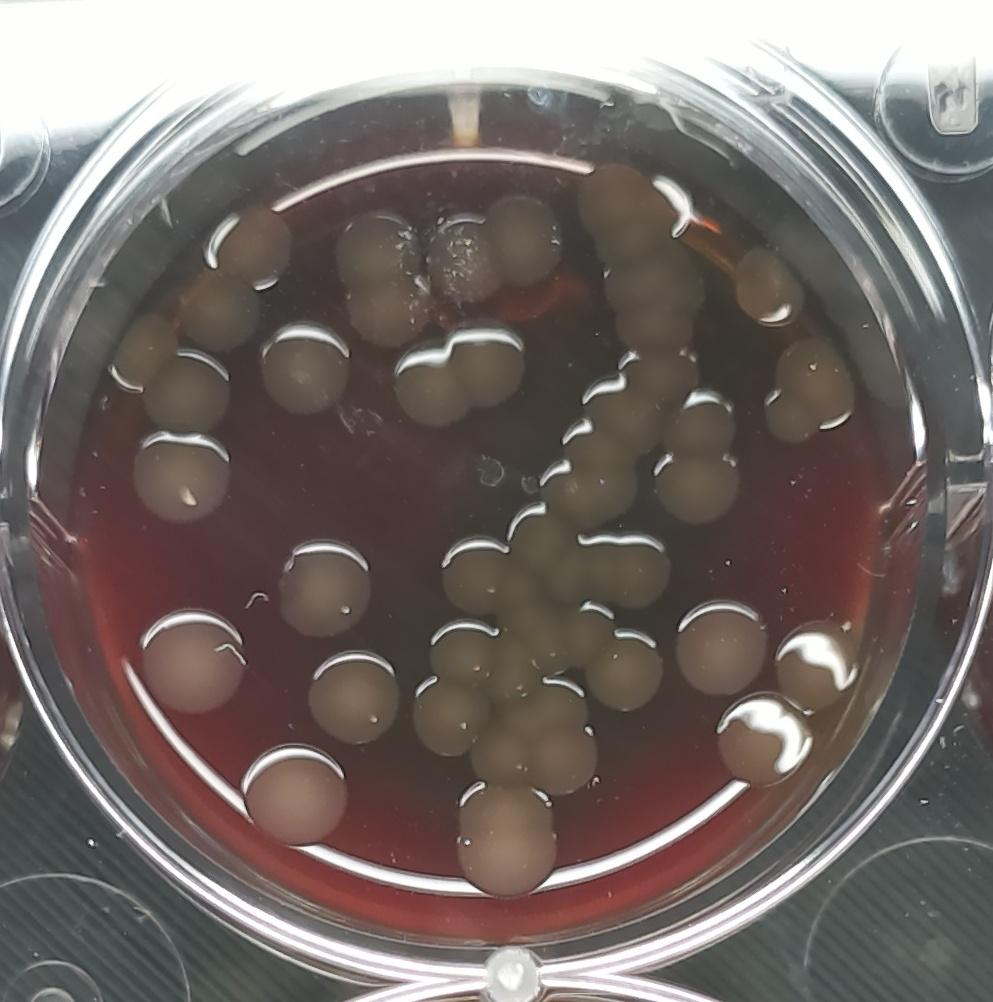vangil: (546, 169, 708, 525), (392, 320, 535, 439), (470, 678, 601, 795), (452, 769, 560, 898), (133, 604, 254, 718), (336, 207, 429, 351), (239, 737, 355, 850), (669, 588, 774, 697), (302, 644, 409, 750), (256, 316, 363, 421), (130, 426, 238, 530), (758, 334, 859, 445), (714, 683, 815, 787), (274, 537, 376, 635), (771, 610, 865, 708), (203, 202, 299, 297), (420, 213, 506, 314), (486, 188, 569, 290), (565, 532, 673, 610), (140, 343, 233, 429), (580, 628, 668, 718), (405, 672, 499, 755), (648, 452, 745, 529), (437, 529, 518, 618), (730, 240, 806, 330), (176, 274, 263, 351), (421, 613, 502, 688), (659, 385, 742, 456)
